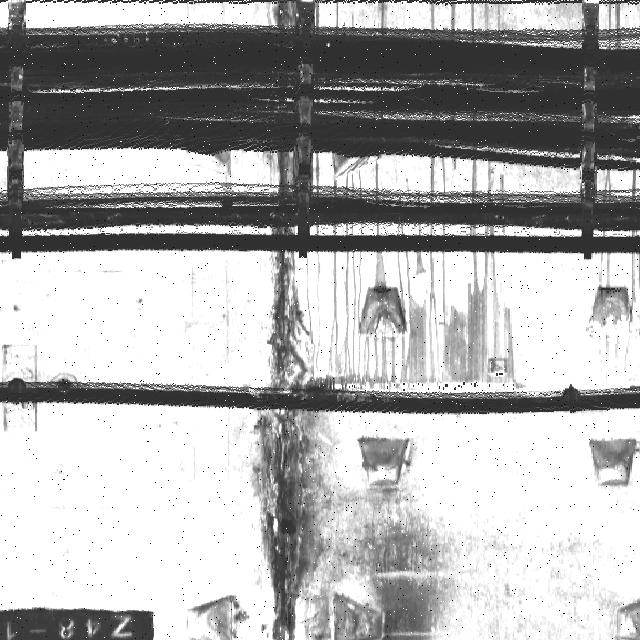leakage: (238, 257, 346, 640), (322, 240, 541, 402)
